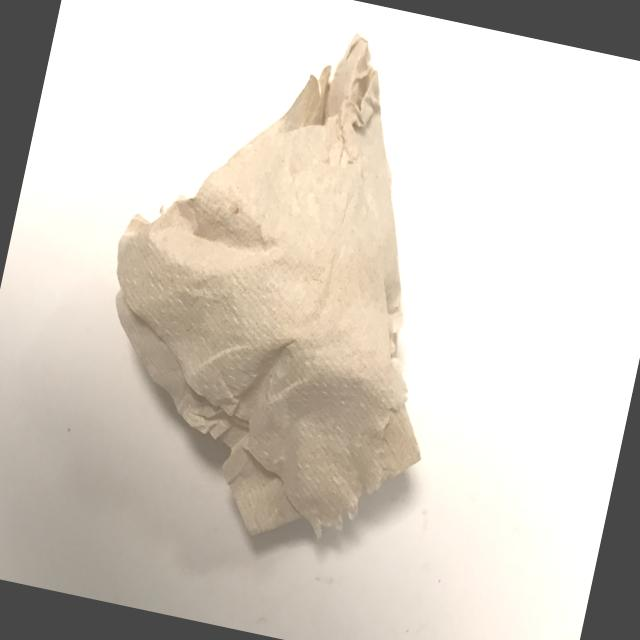Paper: (25, 0, 550, 622)
